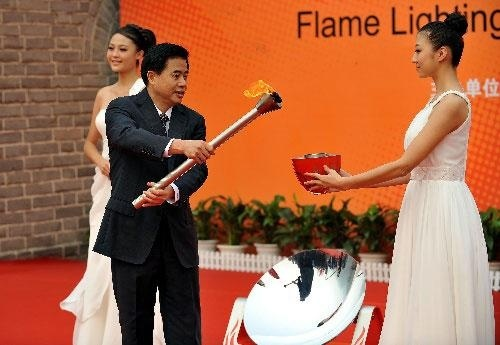fire: (242, 76, 275, 98)
